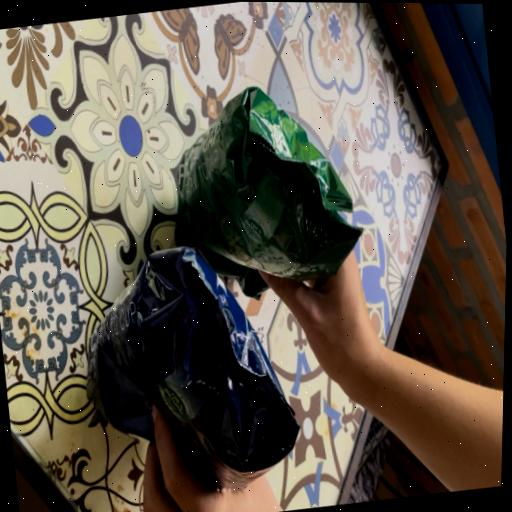cafe_hat: (86, 247, 298, 489)
cafe_xay: (175, 87, 361, 297)
